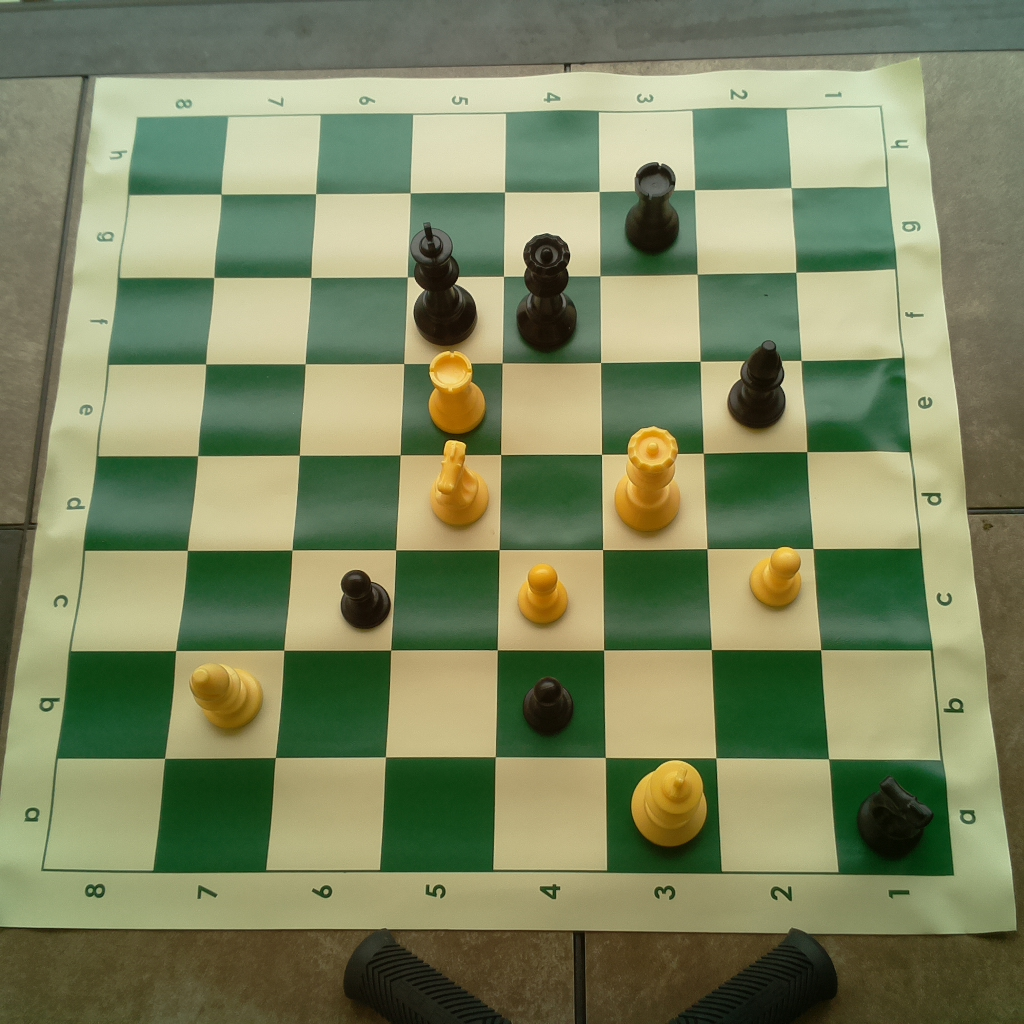black_bishop: (723, 335, 793, 432)
black_king: (405, 218, 483, 345)
black_knight: (854, 771, 937, 861)
black_pawn: (520, 671, 580, 738), (337, 566, 396, 631)
black_queen: (510, 226, 581, 352)
black_rook: (624, 158, 684, 256)
file_a: (44, 757, 955, 874)
file_b: (54, 651, 942, 761)
file_c: (71, 552, 934, 651)
file_d: (83, 453, 920, 551)
file_e: (98, 357, 908, 449)
file_f: (110, 271, 905, 361)
file_g: (119, 188, 897, 277)
file_h: (129, 106, 885, 187)
outline: (46, 109, 954, 875)
rank_1: (786, 106, 955, 877)
rank_2: (692, 106, 842, 874)
rank_3: (598, 109, 724, 873)
rank_4: (490, 114, 608, 871)
rank_5: (379, 113, 505, 874)
rank_6: (262, 113, 412, 874)
rank_7: (155, 114, 323, 873)
rank_8: (45, 115, 228, 873)
white_bishop: (185, 657, 267, 736)
white_king: (625, 753, 712, 853)
white_knight: (425, 436, 492, 530)
white_pawn: (514, 558, 576, 627), (751, 541, 806, 612)
white_queen: (607, 417, 688, 536)
white_rook: (420, 349, 486, 435)
